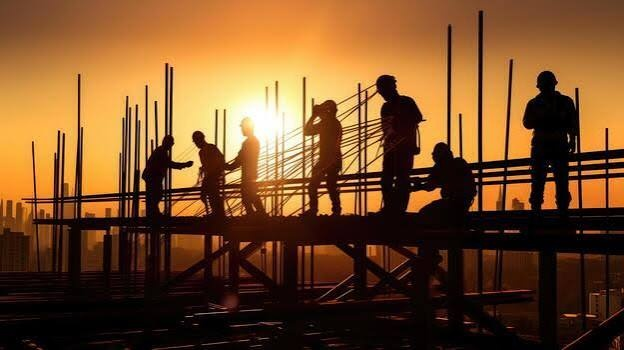hardhat: (532, 66, 561, 91), (428, 139, 458, 160), (371, 72, 398, 95), (314, 97, 337, 110), (237, 116, 257, 128), (190, 131, 205, 144), (161, 132, 177, 142)
person: (509, 59, 590, 221), (360, 71, 417, 219), (302, 96, 354, 222), (420, 135, 490, 220), (230, 116, 281, 213), (135, 131, 189, 218), (187, 130, 233, 217)
